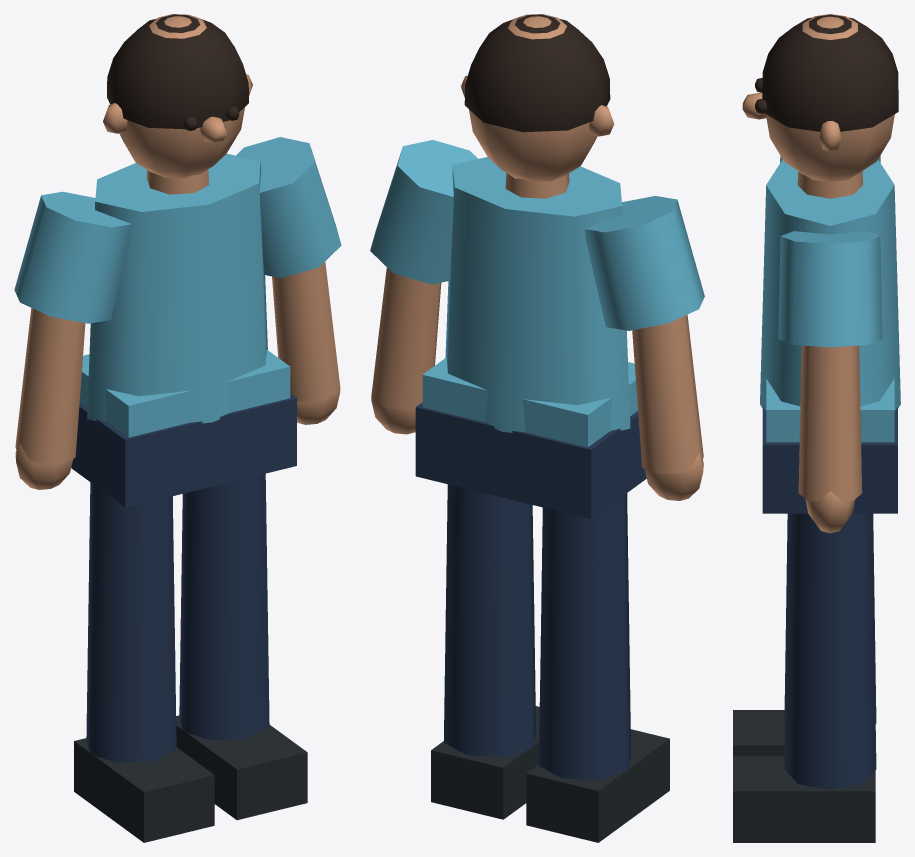
File: human-person.glb
3 renders of one model, left to right at view 1: azimuth 30°, elevation 25°; view 2: azimuth 150°, elevation 25°; view 3: azimuth 270°, elevation 25°, orthographic. The views are drawn at different scales.
Visible parts, largest first — view 1: TShirt, Pants, Skin, Shoes, Hair; view 2: TShirt, Pants, Skin, Shoes, Hair; view 3: Pants, TShirt, Skin, Hair, Shoes.
Part boxes in pixels (left/top/right/bottom): TShirt: left=14, top=137, right=341, bottom=437; Pants: left=71, top=393, right=296, bottom=763; Skin: left=15, top=14, right=340, bottom=489; Shoes: left=74, top=715, right=307, bottom=842; Hair: left=107, top=14, right=248, bottom=130; TShirt: left=370, top=140, right=704, bottom=447; Pants: left=415, top=402, right=646, bottom=780; Skin: left=371, top=14, right=703, bottom=500; Shoes: left=431, top=706, right=669, bottom=842; Hair: left=464, top=14, right=610, bottom=132; Pants: left=762, top=407, right=897, bottom=789; TShirt: left=760, top=155, right=900, bottom=442; Skin: left=742, top=14, right=894, bottom=533; Hair: left=755, top=14, right=898, bottom=131; Shoes: left=733, top=710, right=875, bottom=842.
Size of the model in its own units: 0.802 by 1.82 by 0.3535.
